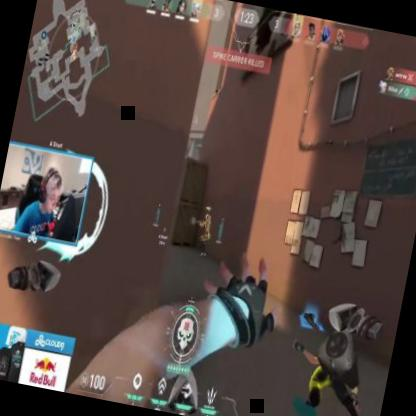enemy: (194, 212, 214, 256)
enemy_head: (204, 213, 210, 221)
